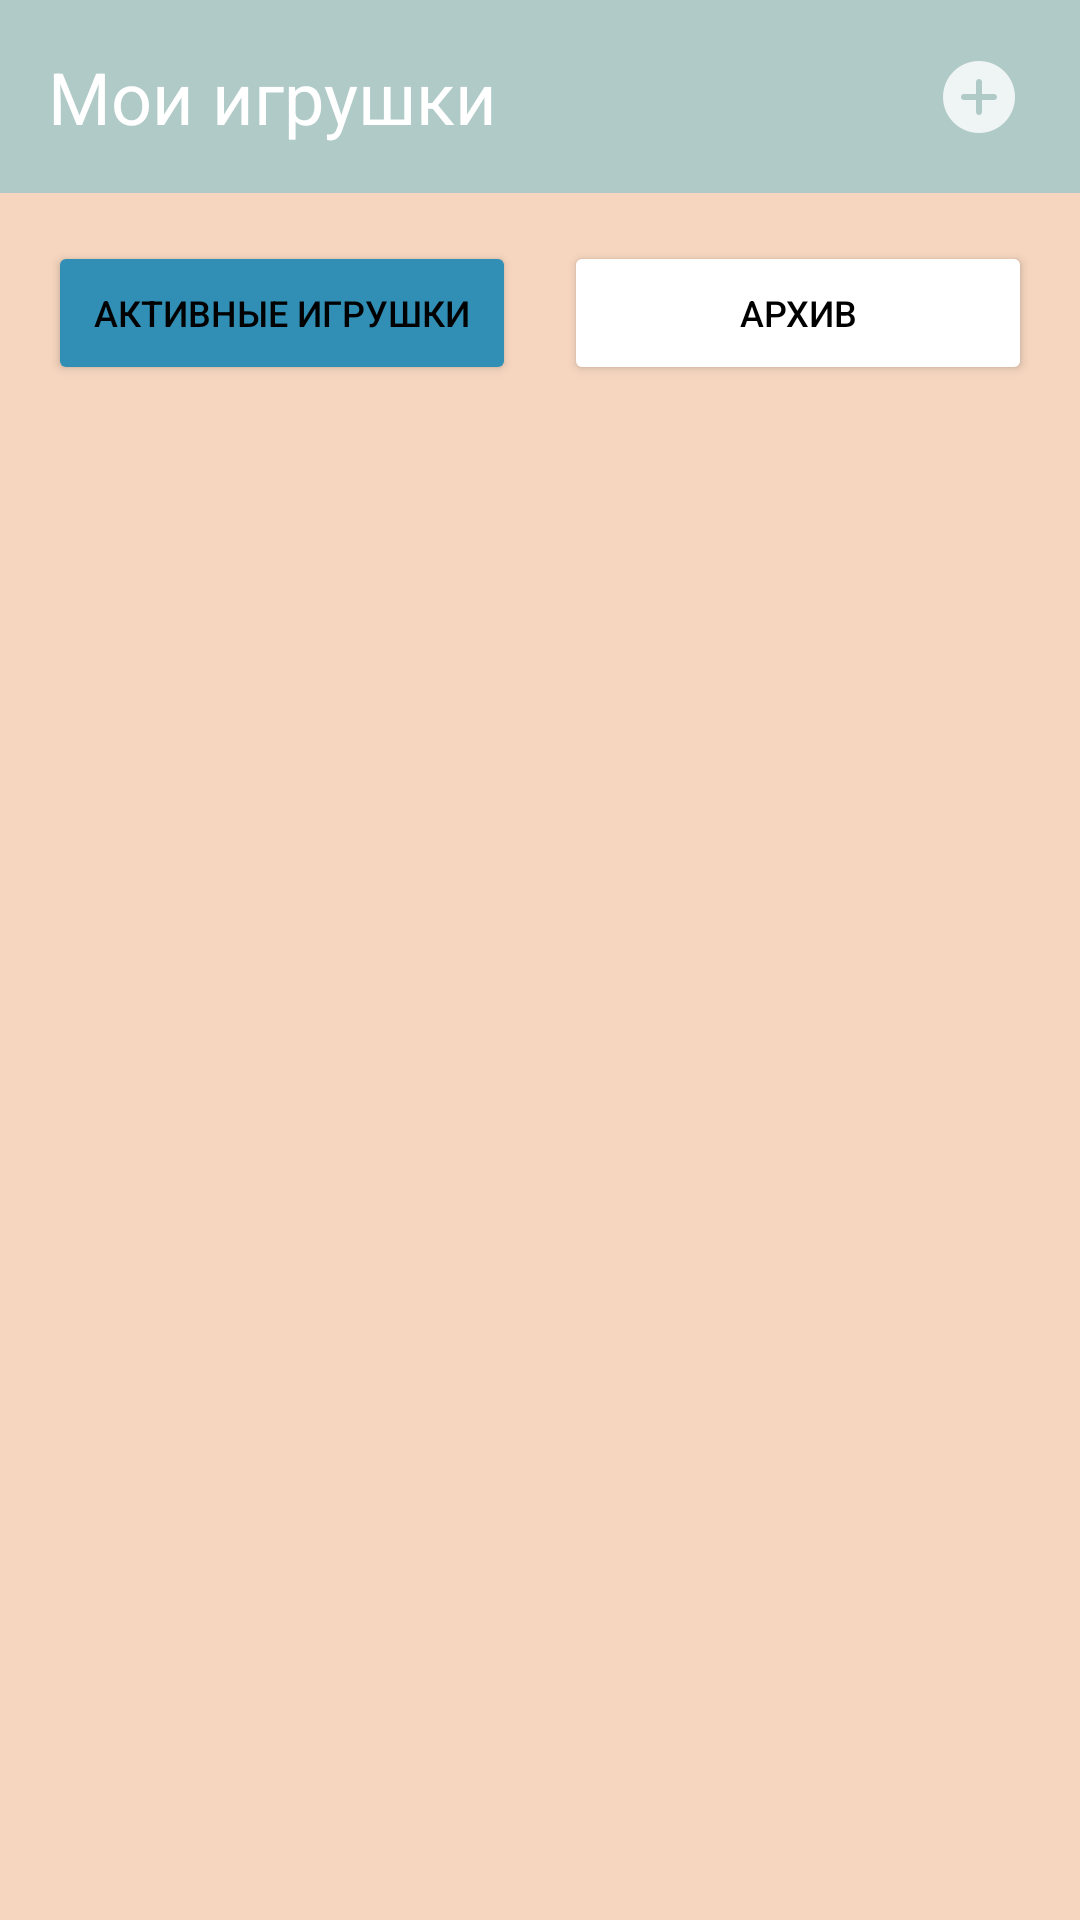

Screen size 1080 x 1920. Icon name, then its box in pixels as bbox=[x1, y1, x2, y2]:
add: bbox=[943, 61, 1015, 133]
